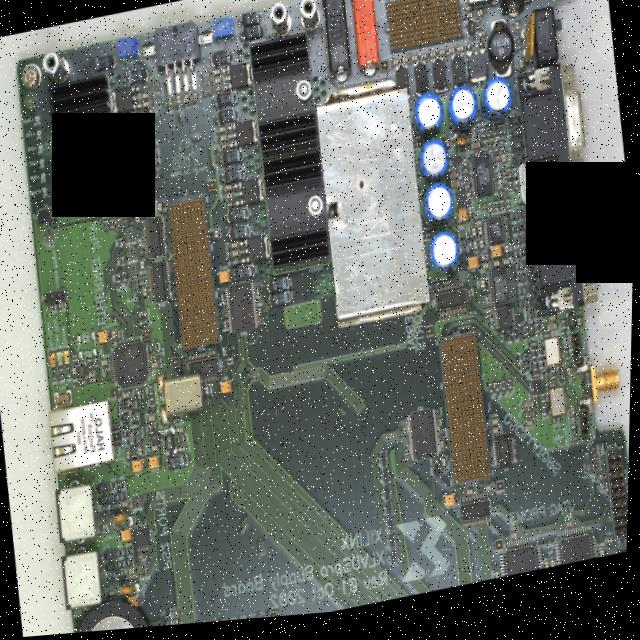-component text- -106C M062P-: (471, 267, 478, 274), (495, 255, 502, 262)
-component text- -106C M06ZP-: (101, 334, 108, 342), (136, 464, 143, 472), (449, 504, 456, 512), (224, 387, 231, 394), (152, 461, 159, 468), (222, 276, 229, 283)
-component text- -12CWQ06FN I R202G AU 22-: (469, 63, 487, 83)
-component text- -33 25N3-: (454, 74, 465, 85)
-component text- -47-10 P9 2-: (220, 96, 232, 108), (226, 154, 238, 166), (131, 72, 143, 84), (232, 212, 244, 224), (246, 15, 257, 27), (247, 29, 258, 41), (217, 55, 228, 67), (222, 113, 233, 125), (229, 172, 240, 184), (99, 58, 110, 70), (136, 113, 147, 125), (142, 170, 153, 182), (114, 196, 125, 208), (235, 229, 246, 241), (273, 283, 284, 295), (275, 297, 286, 309), (172, 459, 183, 471), (138, 131, 149, 142), (239, 270, 250, 281)
-component text- -E EG 2121 156 250 P OHPA26KS-: (549, 350, 559, 371)
-component text- -FP16AB LVT162244-: (421, 423, 434, 459)
-component text- -HALO FastJackTM HFJ11-S050E 0231-: (75, 411, 108, 458)
-component text- -LC32 13K E1K0-: (140, 534, 151, 547)
-component text- -LT 0044 LTC1628CG N25105-: (477, 169, 492, 194)
-component text- -M R47M-: (492, 45, 512, 66)
-component text- -P1GAB LVT162244-: (233, 298, 246, 331)
-component text- -Sipex 3223EIICY 0145-: (492, 229, 502, 246)
-component text- -Sipex SP3243EHCA 0234-: (495, 281, 511, 310)
-component text- -W 201-: (122, 43, 135, 51), (217, 24, 229, 30)
-component text- -intel LXT972ALC A4 L224KB82 SINGAPORE-: (119, 347, 146, 383)
-component text- 0X01: (84, 339, 91, 344)
-component text- 1: (542, 56, 551, 63)
-component text- 1001: (591, 475, 595, 480), (123, 483, 126, 488), (125, 495, 128, 499), (132, 562, 135, 566), (131, 551, 133, 555), (508, 210, 510, 214)
-component text- 1002: (142, 313, 146, 318), (121, 241, 124, 247), (122, 259, 125, 265), (545, 417, 548, 423), (143, 322, 147, 326)
-component text- 1003: (490, 213, 492, 217)
-component text- 101: (493, 135, 497, 140), (515, 234, 519, 239), (153, 348, 157, 352), (513, 222, 517, 226), (516, 247, 520, 251), (520, 284, 523, 288), (523, 310, 526, 314), (488, 137, 490, 141)
-component text- 1022: (544, 405, 546, 409)
-component text- 103: (145, 569, 148, 576), (531, 319, 534, 326), (129, 234, 132, 240), (131, 253, 134, 259)
-component text- 105: (537, 335, 540, 339), (527, 337, 529, 341)
-component text- 10R: (461, 153, 465, 157)
-component text- 1200: (155, 93, 159, 97)
-component text- 1500: (491, 393, 495, 399), (61, 371, 64, 378), (55, 372, 58, 379), (498, 391, 501, 398), (68, 370, 71, 376), (511, 389, 514, 395), (505, 390, 508, 396)
-component text- 1503: (502, 209, 505, 216)
-component text- 2: (539, 23, 548, 31)
-component text- 203C: (122, 48, 132, 56)
-component text- 2201: (119, 221, 121, 226), (53, 305, 56, 308), (51, 221, 53, 225), (577, 443, 579, 447), (568, 363, 570, 367)
-component text- 2202: (152, 402, 155, 407)
-component text- 22R: (123, 276, 128, 281), (117, 277, 121, 283), (95, 361, 99, 366), (499, 134, 503, 139), (517, 259, 521, 264), (134, 271, 137, 277), (135, 285, 138, 291), (138, 500, 141, 506), (519, 272, 523, 276), (122, 564, 126, 568), (114, 485, 117, 490), (122, 552, 125, 557), (111, 223, 114, 227), (116, 497, 119, 501), (522, 297, 525, 301), (557, 427, 560, 431)
-component text- 24: (506, 345, 509, 349), (517, 343, 520, 346)
-component text- 241C: (217, 29, 226, 36)
-component text- 24R0: (528, 372, 532, 376), (526, 366, 530, 369)
-component text- 2R20: (134, 452, 137, 458)
-component text- 3100: (536, 373, 539, 378), (534, 360, 536, 364)
-component text- 3300: (153, 426, 156, 431), (90, 363, 93, 367), (182, 440, 185, 444), (106, 224, 108, 228)
-component text- 332: (463, 255, 468, 259), (462, 240, 466, 244)
-component text- 4701: (604, 484, 607, 489), (605, 494, 608, 498)
-component text- 472: (603, 469, 606, 475)
-component text- 473: (510, 191, 513, 197), (509, 179, 512, 184)
-component text- 4R7: (469, 30, 474, 40), (81, 367, 86, 377), (561, 379, 566, 389), (154, 437, 161, 443), (571, 325, 575, 335)
-component text- 72258: (437, 473, 441, 483)
-component text- 7Z25B: (228, 349, 234, 359)
-component text- L4P: (505, 339, 509, 345)
-component text- R47M: (168, 438, 174, 451)
-component text- h: (331, 29, 343, 41), (360, 23, 371, 35)
-electrolytic capacitor- C100: (168, 456, 191, 474)
-electrolytic capacitor- C105: (149, 458, 163, 471)
-electrolytic capacitor- C115: (98, 331, 113, 346)
-electrolytic capacitor- C119: (122, 528, 137, 544)
-electrolytic capacitor- C129: (133, 461, 147, 474)
-electrolytic capacitor- C150: (445, 500, 459, 514)
-electrolytic capacitor- C155: (219, 273, 233, 288)
-electrolytic capacitor- C157: (221, 383, 235, 398)
-electrolytic capacitor- C178: (413, 68, 430, 104)
-electrolytic capacitor- C183: (432, 62, 448, 100)
-electrolytic capacitor- C188: (450, 60, 467, 97)
-electrolytic capacitor- C2: (442, 89, 482, 140)
-electrolytic capacitor- C28: (458, 213, 469, 232)
-electrolytic capacitor- C29: (420, 186, 458, 237)
-electrolytic capacitor- C30: (425, 234, 464, 282)
-electrolytic capacitor- C44: (208, 53, 233, 72)
-electrolytic capacitor- C47: (213, 93, 238, 112)
-electrolytic capacitor- C48: (131, 111, 154, 127)
-electrolytic capacitor- C51: (126, 69, 151, 88)
-electrolytic capacitor- C54: (216, 111, 239, 129)
-electrolytic capacitor- C57: (220, 151, 243, 169)
-electrolytic capacitor- C58: (137, 167, 162, 186)
-electrolytic capacitor- C61: (133, 128, 156, 145)
-electrolytic capacitor- C62: (93, 55, 119, 73)
-electrolytic capacitor- C67: (221, 170, 246, 187)
-electrolytic capacitor- C7: (409, 95, 447, 147)
-electrolytic capacitor- C70: (226, 210, 250, 227)
-electrolytic capacitor- C72: (227, 228, 252, 244)
-electrolytic capacitor- C75: (232, 267, 256, 285)
-electrolytic capacitor- C76: (237, 14, 262, 32)
-electrolytic capacitor- C77: (239, 28, 264, 45)
-electrolytic capacitor- C78: (265, 281, 291, 299)
-electrolytic capacitor- C79: (267, 293, 294, 312)
-electrolytic capacitor- C8: (415, 142, 453, 192)
-electrolytic capacitor- C83: (108, 193, 131, 211), (467, 263, 481, 277)
-electrolytic capacitor- unknown: (476, 81, 517, 134), (394, 71, 411, 107), (490, 252, 505, 266), (129, 597, 143, 611)
-emi filter- FIL1: (519, 217, 533, 227)
-emi filter- FIL10: (512, 149, 525, 159)
-emi filter- FIL11: (510, 136, 524, 147)
-emi filter- FIL12: (509, 123, 522, 134)
-emi filter- FIL13: (100, 496, 113, 507)
-emi filter- FIL14: (98, 484, 111, 494)
-emi filter- FIL16: (106, 550, 120, 563)
-emi filter- FIL17: (136, 430, 144, 448)
-emi filter- FIL18: (526, 417, 539, 428)
-emi filter- FIL2: (521, 230, 533, 240)
-emi filter- FIL3: (523, 242, 535, 252)
-emi filter- FIL4: (524, 254, 536, 264)
-emi filter- FIL5: (525, 268, 537, 278)
-emi filter- FIL6: (526, 280, 539, 289)
-emi filter- FIL7: (527, 293, 540, 302)
-emi filter- FIL8: (528, 304, 542, 315)
-emi filter- FIL9: (513, 161, 527, 172)
-emi filter- unknown: (107, 563, 120, 573)
-resistor network- RESNETW1: (527, 315, 538, 329)
-resistor network- RNETW18: (598, 464, 610, 479)
-resistor network- RNETW3: (126, 229, 136, 245)
-resistor network- RNETW4: (134, 496, 144, 511)
-resistor network- RNETW5: (128, 247, 139, 263)
-resistor network- RNETW6: (141, 565, 151, 579)
-resistor network- RNETW7: (130, 267, 140, 280)
-resistor network- RNETW8: (132, 281, 142, 295)
-test point- TP1: (43, 187, 48, 194)
-test point- TP10: (35, 115, 40, 122)
-test point- TP3: (41, 172, 46, 179)
-test point- TP4: (498, 180, 503, 186)
-test point- TP5: (499, 187, 504, 193)
-test point- TP7: (40, 158, 45, 165)
-test point- TP8: (38, 145, 43, 151)
-test point- TP9: (37, 130, 42, 136)
2005: (518, 295, 527, 303)
2016: (88, 359, 94, 371)
2024: (47, 220, 56, 227)
2025: (515, 258, 524, 266)
2033: (513, 245, 522, 253)
2036: (517, 283, 526, 292), (512, 233, 521, 240)
2041: (94, 357, 101, 370)
2052: (49, 302, 60, 312)
2061: (510, 220, 520, 228)
2066: (519, 308, 529, 316)
2080: (494, 148, 500, 161)
2081: (151, 346, 160, 354)
2090: (116, 216, 124, 230)
2100: (139, 312, 148, 321)
2111: (140, 321, 149, 329)
2117: (498, 130, 504, 143)
2123: (479, 133, 486, 147)
2128: (178, 437, 188, 447)
2137: (151, 423, 160, 433)
2145: (485, 133, 492, 146)
2150: (491, 131, 499, 145)
2156: (500, 147, 507, 160)
2157: (122, 493, 131, 501)
2161: (121, 481, 130, 490)
2170: (103, 220, 111, 233)
2177: (109, 218, 117, 232)
2182: (113, 495, 122, 503)
2183: (111, 483, 120, 491)
2185: (119, 237, 125, 251)
2186: (129, 560, 138, 569)
2187: (128, 549, 137, 557)
2188: (119, 562, 129, 570)
2190: (122, 273, 129, 284)
2192: (118, 550, 127, 559)
2193: (66, 366, 73, 379)
2194: (59, 367, 67, 381)
2195: (52, 369, 59, 383)
2198: (116, 273, 122, 286)
2199: (149, 386, 156, 399)
2204: (132, 448, 140, 461)
2205: (508, 385, 516, 399)
2207: (151, 398, 157, 411)
2208: (524, 333, 531, 346)
2209: (489, 389, 497, 403)
2211: (507, 175, 512, 187)
2215: (536, 330, 541, 343)
2220: (496, 387, 502, 401)
2225: (501, 386, 510, 401)
2234: (456, 150, 469, 161), (487, 149, 495, 163), (458, 238, 469, 247), (412, 134, 415, 142), (126, 402, 129, 408), (128, 421, 131, 427), (124, 422, 127, 428)
2240: (529, 13, 567, 75)
2249: (556, 443, 567, 451), (421, 144, 427, 150), (449, 93, 454, 99), (445, 233, 450, 239), (426, 191, 431, 196), (431, 236, 436, 241), (483, 88, 487, 92), (436, 143, 440, 147), (375, 0, 380, 3)
2262: (591, 422, 598, 450)
2264: (582, 337, 589, 364)
2265: (26, 131, 37, 138), (205, 23, 214, 29)
2275: (27, 145, 38, 152), (110, 41, 120, 48)
2284: (29, 160, 40, 166)
2293: (30, 173, 41, 181)
2364: (86, 221, 111, 329)
2367: (52, 248, 62, 290)
2399: (511, 508, 578, 533)
2432: (625, 479, 631, 522)
2506: (68, 542, 77, 554)
2507: (75, 608, 85, 621)
2508: (155, 491, 177, 573)
2532: (271, 576, 392, 615)
2533: (171, 167, 208, 181)
2539: (48, 322, 55, 347)
2576: (564, 434, 571, 457)
2607: (23, 117, 35, 124)
2613: (222, 553, 390, 607)
2644: (387, 3, 391, 8), (59, 208, 62, 214), (594, 540, 597, 545), (616, 454, 620, 457), (627, 554, 630, 557), (145, 344, 149, 346), (539, 551, 541, 555), (478, 343, 481, 345), (180, 346, 183, 348)
2645: (391, 59, 396, 64), (221, 338, 225, 344), (436, 347, 440, 352)
2646: (216, 294, 221, 302), (441, 389, 445, 397), (423, 52, 429, 57)
2648: (170, 255, 174, 262)
2685: (149, 377, 153, 383)
2690: (146, 381, 150, 388), (626, 545, 630, 552)
2692: (619, 547, 624, 554)
2694: (487, 429, 492, 437)
2700: (620, 554, 625, 560), (609, 454, 614, 459)
2702: (211, 246, 215, 254), (447, 437, 451, 445), (458, 46, 464, 51)
2708: (476, 494, 480, 502)
2725: (164, 207, 169, 215), (493, 477, 497, 485)
2728: (33, 213, 37, 220), (516, 23, 521, 28), (506, 552, 509, 557)
2730: (206, 199, 210, 207), (452, 485, 456, 493)
2733: (120, 387, 124, 392)
2734: (501, 557, 506, 563), (116, 383, 120, 388), (557, 547, 561, 551)
2736: (559, 540, 565, 547)
2750: (588, 535, 594, 541), (534, 546, 539, 552)
2754: (112, 347, 116, 353)
2755: (115, 341, 119, 348)
2785: (174, 304, 179, 310), (483, 382, 486, 388), (417, 0, 422, 2)
2791: (49, 357, 51, 360), (56, 355, 58, 358), (64, 354, 66, 357)
2839: (375, 26, 382, 40)
2840: (347, 32, 353, 46)
2846: (131, 575, 139, 581), (176, 470, 184, 475)
2847: (189, 445, 194, 455)
2848: (541, 341, 545, 350)
2849: (145, 415, 150, 426)
2850: (149, 443, 153, 454), (486, 317, 492, 322)
2851: (153, 469, 161, 475), (546, 390, 551, 399)
2856: (459, 173, 464, 179)
2857: (164, 350, 167, 358)
2858: (104, 354, 112, 360)
2859: (104, 370, 107, 378)
2861: (110, 323, 118, 329)
2862: (103, 326, 111, 332), (122, 331, 126, 339)
2863: (142, 391, 147, 400)
2864: (131, 391, 139, 402)
2865: (131, 499, 136, 509)
2866: (118, 536, 123, 546)
2867: (472, 144, 478, 150)
2869: (136, 402, 139, 410)
2870: (137, 415, 141, 423)
2871: (125, 438, 131, 443)
2872: (131, 425, 139, 431)
2873: (59, 386, 67, 391)
2874: (124, 459, 132, 469), (121, 408, 124, 417)
2875: (131, 412, 134, 421)
2877: (137, 473, 145, 478)
2878: (468, 157, 474, 163), (483, 219, 487, 223)
2879: (146, 447, 150, 457), (529, 328, 535, 334)
2881: (442, 283, 449, 288)
2883: (141, 282, 149, 288)
2884: (133, 209, 141, 215)
2885: (140, 271, 148, 277)
2886: (143, 559, 149, 565)
2895: (541, 324, 547, 332)
2896: (442, 414, 445, 422)
2901: (449, 512, 457, 518)
2902: (256, 297, 263, 303)
2903: (257, 306, 264, 311)
2904: (221, 304, 227, 309)
2905: (224, 331, 230, 336)
2906: (220, 269, 229, 275)
2908: (223, 379, 231, 384)
2910: (431, 465, 435, 473)
2911: (496, 170, 500, 174)
2912: (229, 364, 235, 369)
2915: (559, 319, 567, 325)
2916: (576, 320, 584, 325)
2918: (569, 384, 576, 394)
2919: (568, 419, 572, 429)
2920: (447, 468, 453, 479)
2922: (467, 162, 471, 170)
2923: (528, 435, 536, 440)
2924: (519, 405, 526, 415)
2925: (530, 401, 533, 410)
2929: (408, 72, 412, 82)
2930: (388, 65, 391, 75)
2931: (412, 90, 416, 100)
2935: (426, 68, 429, 78)
2936: (410, 71, 413, 82)
2937: (430, 87, 435, 97)
2940: (428, 67, 432, 78)
2941: (445, 65, 448, 75)
2942: (450, 83, 453, 93)
2946: (447, 64, 451, 75)
2947: (463, 59, 467, 71), (177, 424, 185, 430)
2948: (450, 146, 454, 156)
2949: (485, 31, 489, 42)
2952: (608, 541, 616, 546)
2955: (444, 97, 451, 107), (452, 196, 457, 200)
2956: (194, 107, 200, 112)
2957: (548, 558, 557, 566)
2959: (567, 524, 575, 530)
2964: (511, 535, 520, 541)
2967: (505, 162, 510, 170)
2972: (494, 489, 498, 500)
2976: (219, 231, 224, 241)
2977: (155, 205, 159, 215)
2978: (542, 383, 545, 389)
2982: (260, 615, 268, 621)
2983: (251, 617, 259, 622)
2987: (242, 618, 250, 624)
2988: (233, 620, 241, 624)
2989: (503, 185, 507, 189)
2993: (224, 621, 232, 625)
2994: (214, 623, 222, 626)
2998: (205, 625, 213, 626)
3004: (501, 432, 505, 442)
3005: (532, 346, 538, 351)
3006: (552, 338, 560, 344)
3036: (446, 174, 453, 181), (455, 219, 459, 228)
3047: (448, 222, 457, 234)
3058: (453, 267, 462, 279)
3079: (210, 97, 216, 103)
3089: (530, 383, 533, 389)
3100: (504, 188, 508, 192)
3127: (472, 204, 476, 212)
3153: (514, 67, 518, 73)
3154: (152, 109, 158, 117)
3157: (185, 108, 191, 113)
3168: (473, 212, 477, 220)
3182: (232, 56, 237, 65)
3185: (236, 96, 241, 104)
3186: (127, 117, 132, 126), (221, 78, 225, 87)
3188: (483, 20, 488, 26)
3189: (138, 94, 142, 102)
3190: (122, 77, 128, 86)
3193: (238, 113, 242, 122)
3194: (213, 130, 217, 138)
3195: (214, 138, 218, 147)
3196: (242, 152, 247, 162)
3197: (133, 174, 138, 183)
3198: (158, 158, 163, 166), (91, 378, 97, 383)
3200: (158, 149, 162, 158)
3201: (128, 135, 133, 143)
3202: (101, 54, 107, 59)
3204: (177, 110, 183, 115)
3205: (218, 147, 221, 153)
3207: (245, 171, 249, 180)
3208: (219, 188, 223, 196)
3209: (220, 197, 224, 205)
3210: (411, 104, 418, 113)
3211: (249, 211, 254, 219)
3212: (224, 206, 228, 212)
3213: (251, 229, 255, 237)
3214: (225, 246, 230, 254)
3215: (226, 254, 231, 262)
3216: (255, 269, 260, 277)
3217: (261, 15, 265, 25)
3218: (262, 29, 266, 37)
3219: (290, 282, 294, 291)
3220: (291, 295, 296, 303)
3221: (419, 181, 426, 191)
3222: (169, 112, 175, 117)
3223: (229, 264, 232, 270)
3225: (104, 200, 109, 208), (472, 275, 478, 280), (156, 142, 159, 148)
3226: (481, 277, 487, 282)
3227: (482, 256, 488, 262)
3229: (490, 268, 494, 276)
3235: (509, 252, 514, 261)
3239: (470, 249, 473, 257)
3240: (485, 250, 493, 257), (474, 258, 480, 263)
3241: (476, 227, 482, 233)
3242: (468, 233, 472, 242)
3269: (473, 54, 478, 59)
3271: (508, 348, 514, 354)
3272: (163, 612, 169, 618)
3289: (204, 63, 211, 72)
3293: (516, 347, 520, 351)
3353: (405, 322, 419, 362)
3357: (60, 473, 70, 490)
3413: (105, 569, 112, 579), (517, 214, 523, 220)
3414: (508, 149, 513, 161)
3415: (506, 137, 512, 149)
3416: (505, 124, 509, 136)
3417: (98, 500, 103, 511)
3418: (97, 477, 106, 486)
3419: (104, 545, 113, 553)
3420: (142, 429, 146, 441)
3421: (518, 416, 527, 427)
3422: (518, 227, 524, 232)
3423: (520, 239, 526, 244)
3424: (521, 251, 528, 256)
3425: (522, 264, 528, 269)
3426: (524, 276, 530, 282)
3427: (526, 289, 532, 294)
3428: (527, 301, 533, 307)
3429: (509, 161, 514, 169)
3434: (522, 21, 528, 28)
3435: (105, 535, 119, 542)
3436: (142, 585, 152, 603)
3437: (444, 133, 456, 144)
3449: (308, 44, 314, 63)
3450: (310, 269, 325, 278)
3451: (54, 162, 61, 180)
3455: (482, 203, 489, 209)
3456: (474, 217, 484, 228)
3457: (458, 516, 462, 527)
3458: (149, 212, 155, 218)
3459: (151, 531, 156, 543)
3460: (159, 304, 166, 310)
3461: (152, 370, 159, 383)
3464: (491, 325, 496, 338)
3465: (221, 362, 225, 372)
3466: (236, 61, 241, 66)
3467: (431, 473, 436, 484)
3468: (419, 412, 425, 418)
3469: (242, 334, 249, 340)
3470: (223, 350, 228, 359)
3471: (505, 475, 511, 481)
3472: (122, 115, 128, 120)
3473: (248, 177, 254, 182)
3474: (128, 172, 134, 177)
3475: (242, 119, 247, 124)
3476: (255, 235, 260, 240)
3477: (486, 304, 491, 312)
3478: (433, 307, 437, 314)
3486: (517, 57, 523, 63)
3492: (580, 356, 586, 365)
3494: (589, 435, 594, 446)
3495: (587, 382, 592, 391)
3496: (489, 409, 494, 419)
3497: (380, 30, 386, 41)
3510: (201, 46, 206, 53)
3512: (183, 193, 190, 199)
3514: (41, 296, 46, 302)
3515: (513, 92, 518, 98)
3516: (44, 202, 50, 209)
3558: (46, 243, 56, 250)
3561: (509, 33, 514, 39)
3562: (466, 44, 473, 51)
3565: (83, 381, 87, 385)
3567: (163, 442, 168, 448)
3568: (159, 426, 164, 432)
3569: (568, 339, 572, 343)
3577: (49, 347, 56, 352)
3578: (56, 346, 64, 351)
3579: (63, 344, 71, 350)
3585: (53, 318, 62, 347)
3632: (414, 321, 428, 359)
3693: (126, 63, 135, 69)
3694: (220, 44, 231, 51)
3756: (449, 167, 453, 173)
3757: (453, 202, 456, 208)
3765: (574, 430, 577, 433), (63, 303, 65, 307), (175, 615, 177, 619), (176, 624, 178, 628), (566, 350, 568, 353)
3778: (509, 199, 515, 205)
3781: (559, 335, 564, 346)
3782: (569, 345, 573, 356)
3783: (521, 371, 525, 382)
3784: (570, 358, 574, 369)
3785: (520, 360, 524, 371)
3786: (527, 379, 531, 389)
3787: (537, 342, 543, 354)
3788: (526, 348, 530, 358)
3789: (511, 208, 515, 216), (119, 399, 124, 405)
3790: (543, 373, 550, 383)
3791: (550, 373, 558, 378)
3792: (569, 430, 573, 440)
3793: (554, 432, 562, 437)
3794: (570, 440, 575, 451)
3795: (543, 425, 551, 430)
3800: (461, 246, 468, 253), (489, 220, 495, 225)
3801: (593, 486, 602, 495)
3802: (172, 608, 180, 614)
3803: (479, 23, 484, 36)
3809: (603, 498, 611, 504)
3811: (501, 218, 507, 223)
3815: (546, 399, 551, 411)
3816: (584, 473, 590, 484)
3819: (599, 460, 607, 466)
3822: (495, 219, 501, 224)
3823: (514, 207, 522, 212)
3824: (513, 203, 520, 208)
3832: (492, 420, 500, 426)
3844: (159, 81, 164, 89)
3878: (161, 90, 165, 98)
3889: (117, 259, 122, 268), (156, 107, 162, 112)
3921: (196, 78, 203, 86)
3932: (196, 84, 203, 94)
3943: (198, 92, 205, 100)
3954: (517, 266, 523, 271)
3965: (519, 290, 525, 296)
3976: (88, 354, 94, 359)
3985: (43, 223, 48, 229)
3986: (515, 253, 521, 259)
3993: (61, 308, 68, 313)
3997: (513, 240, 519, 246)
4001: (512, 228, 518, 233), (518, 278, 524, 283)
4006: (100, 350, 104, 359)
4018: (52, 309, 58, 315)
4027: (511, 216, 517, 221)
4032: (521, 303, 527, 308)
4047: (158, 345, 163, 353)
4056: (116, 213, 122, 218)
4066: (148, 310, 152, 319)
4077: (149, 319, 153, 328)
4083: (502, 132, 507, 140)
4089: (477, 130, 483, 135)
4094: (187, 437, 191, 445)
4103: (147, 426, 151, 434)
4111: (483, 129, 489, 134)
4116: (476, 124, 482, 129)
4122: (504, 150, 508, 156)
4123: (123, 488, 129, 494)
4128: (121, 477, 128, 482)
4137: (103, 215, 109, 221)
4145: (110, 214, 116, 219)
4151: (114, 490, 120, 495)
4152: (112, 478, 118, 484)
4153: (115, 240, 120, 248)
4154: (130, 556, 136, 561)
4155: (128, 544, 134, 549)
4156: (121, 557, 127, 563)
4160: (120, 545, 126, 551)
4161: (68, 378, 74, 383)
4162: (61, 379, 67, 385)
4163: (54, 380, 60, 386)
4166: (112, 276, 118, 284)
4167: (146, 388, 151, 397)
4172: (125, 442, 130, 450)
4173: (511, 396, 519, 404)
4175: (148, 401, 152, 409)
4176: (520, 328, 527, 335)
4177: (492, 400, 499, 409)
4179: (507, 171, 511, 175)
4183: (536, 326, 542, 331)
4188: (499, 400, 505, 410)
4193: (505, 398, 512, 408)
4219: (524, 315, 530, 331)
4220: (126, 242, 138, 248)
4221: (134, 509, 146, 515)
4222: (142, 578, 153, 584)
4223: (117, 288, 128, 294)
4224: (128, 299, 140, 304)
4225: (585, 483, 599, 490)
4266: (543, 10, 552, 17)
4280: (62, 327, 69, 345)
4286: (125, 568, 131, 575)
4287: (115, 573, 121, 580)
4288: (588, 451, 594, 457)
4289: (379, 468, 386, 476)
4290: (381, 485, 388, 492)
4291: (383, 501, 390, 509)
4292: (384, 517, 392, 525)
4293: (386, 534, 393, 541)
4294: (388, 550, 395, 557)
4295: (390, 566, 396, 574)
4297: (127, 211, 131, 216)
4303: (42, 193, 49, 198)
4304: (34, 120, 43, 127)
4316: (41, 178, 47, 184)
4317: (495, 174, 502, 182)
4318: (498, 192, 504, 198)
4320: (39, 164, 46, 169)
4321: (38, 150, 44, 155)
4322: (36, 136, 43, 141)
4330: (86, 466, 94, 472)
4401: (29, 188, 43, 196)
4415: (341, 533, 387, 558)
4418: (83, 333, 91, 338)
4427: (171, 149, 204, 174)
4440: (465, 48, 489, 91)
4444: (451, 163, 464, 178)
4445: (455, 197, 467, 213)
4454: (120, 571, 131, 587)
4455: (108, 574, 119, 589)
4456: (586, 456, 597, 469)
4457: (379, 457, 391, 472)
4458: (381, 473, 393, 488)
4459: (383, 490, 395, 504)
4460: (384, 506, 397, 521)
4461: (386, 522, 398, 537)
4462: (388, 538, 401, 553)
4463: (390, 555, 402, 570)
4465: (123, 214, 135, 229)
4467: (101, 507, 111, 522), (113, 504, 123, 519)
capacitor: (205, 386, 212, 400), (73, 365, 80, 378), (480, 285, 487, 298), (152, 362, 161, 372), (465, 18, 474, 27), (103, 523, 112, 532), (110, 591, 120, 599), (503, 266, 512, 274), (142, 85, 149, 93), (442, 446, 447, 457), (406, 454, 412, 463), (468, 296, 473, 306), (73, 353, 80, 360), (464, 184, 471, 191), (465, 191, 472, 198), (404, 433, 409, 442), (500, 197, 504, 206), (416, 148, 422, 154), (415, 142, 422, 147), (426, 240, 432, 245), (409, 108, 412, 117), (419, 199, 422, 207), (426, 234, 430, 238)
capacitor C101: (130, 568, 139, 577)
capacitor C102: (180, 446, 189, 456)
capacitor C103: (177, 428, 187, 437), (545, 342, 552, 349)
capacitor C104: (149, 415, 159, 424)
capacitor C105: (152, 445, 162, 455), (487, 320, 494, 327)
capacitor C106: (550, 391, 558, 398)
capacitor C110: (462, 176, 469, 183)
capacitor C111: (151, 356, 159, 363)
capacitor C112: (101, 359, 111, 369)
capacitor C113: (106, 367, 113, 374)
capacitor C115: (112, 329, 119, 343)
capacitor C116: (118, 332, 123, 340)
capacitor C117: (138, 392, 143, 402)
capacitor C118: (123, 392, 133, 401)
capacitor C119: (123, 501, 132, 510)
capacitor C120: (469, 148, 482, 158)
capacitor C122: (132, 403, 136, 412)
capacitor C123: (133, 416, 138, 424)
capacitor C124: (124, 430, 129, 439)
capacitor C125: (130, 431, 138, 448)
capacitor C126: (54, 388, 76, 410)
capacitor C127: (127, 449, 134, 462), (124, 410, 130, 415)
capacitor C128: (125, 417, 129, 420)
capacitor C130: (474, 157, 483, 167)
capacitor C131: (139, 447, 145, 461), (530, 333, 536, 341)
capacitor C133: (444, 286, 451, 294)
capacitor C134: (137, 239, 144, 251)
capacitor C135: (143, 287, 150, 300)
capacitor C136: (135, 214, 142, 227)
capacitor C137: (140, 260, 147, 273)
capacitor C138: (140, 555, 147, 562)
capacitor C146: (541, 331, 547, 340)
capacitor C147: (440, 424, 445, 435)
capacitor C152: (257, 290, 261, 298)
capacitor C153: (259, 311, 264, 320)
capacitor C154: (221, 297, 227, 305)
capacitor C155: (224, 323, 229, 332)
capacitor C16: (435, 465, 442, 473)
capacitor C160: (495, 162, 501, 170)
capacitor C161: (229, 359, 235, 365)
capacitor C164: (549, 323, 558, 331)
capacitor C165: (576, 325, 584, 338)
capacitor C167: (567, 374, 574, 387)
capacitor C168: (570, 413, 578, 427)
capacitor C169: (443, 462, 448, 475)
capacitor C17: (492, 426, 501, 434)
capacitor C170: (462, 162, 469, 176)
capacitor C171: (527, 427, 536, 437)
capacitor C172: (524, 408, 537, 419)
capacitor C173: (533, 401, 540, 408)
capacitor C175: (384, 0, 393, 3)
capacitor C176: (394, 0, 403, 1)
capacitor C1767: (401, 62, 410, 70)
capacitor C177: (392, 64, 401, 73)
capacitor C182: (419, 58, 428, 68)
capacitor C183: (410, 60, 419, 70)
capacitor C187: (428, 57, 438, 66)
capacitor C188: (437, 55, 447, 64)
capacitor C192: (447, 53, 456, 62)
capacitor C193: (456, 52, 465, 60)
capacitor C194: (445, 143, 451, 157)
capacitor C195: (477, 38, 486, 46)
capacitor C198: (608, 545, 617, 555)
capacitor C20: (450, 187, 463, 196)
capacitor C200: (192, 93, 199, 105)
capacitor C203: (567, 528, 577, 537)
capacitor C208: (512, 539, 521, 548)
capacitor C210: (500, 159, 508, 173)
capacitor C215: (486, 491, 495, 500)
capacitor C216: (468, 495, 477, 503)
capacitor C219: (214, 231, 221, 244)
capacitor C22: (158, 203, 165, 216)
capacitor C220: (545, 381, 550, 391)
capacitor C224: (261, 619, 270, 623)
capacitor C230: (502, 177, 507, 186)
capacitor C244: (493, 434, 502, 443)
capacitor C245: (532, 351, 538, 356)
capacitor C246: (546, 331, 560, 341)
capacitor C280: (449, 178, 462, 188)
capacitor C30: (513, 28, 520, 41)
capacitor C321: (215, 90, 221, 95)
capacitor C330: (535, 381, 542, 387)
capacitor C340: (504, 192, 509, 200)
capacitor C370: (465, 197, 473, 210)
capacitor C40: (518, 66, 525, 78)
capacitor C400: (142, 103, 152, 110)
capacitor C418: (184, 94, 191, 108)
capacitor C420: (468, 211, 474, 224)
capacitor C46: (212, 71, 222, 80)
capacitor C49: (213, 79, 222, 89)
capacitor C50: (475, 16, 484, 25)
capacitor C51: (142, 94, 151, 102)
capacitor C56: (218, 128, 228, 137)
capacitor C57: (220, 137, 229, 145)
capacitor C6: (149, 160, 158, 168), (89, 371, 98, 379)
capacitor C61: (148, 151, 157, 159)
capacitor C65: (176, 96, 183, 109)
capacitor C66: (222, 147, 228, 153)
capacitor C69: (225, 187, 234, 195)
capacitor C7: (226, 195, 235, 204)
capacitor C72: (227, 204, 234, 212)
capacitor C74: (231, 244, 240, 254)
capacitor C75: (231, 253, 241, 262)
capacitor C81: (168, 98, 174, 110)
capacitor C82: (234, 263, 240, 269)
capacitor C84: (149, 142, 156, 150)
capacitor C86: (481, 260, 490, 270)
capacitor C88: (493, 267, 502, 277)
capacitor C93: (504, 250, 512, 264)
capacitor C97: (473, 246, 480, 259)
capacitor C98: (479, 245, 485, 258)
capacitor C99: (478, 232, 484, 245)
capacitor CA7: (471, 233, 478, 246)
clock: (154, 369, 209, 429), (543, 345, 565, 375), (549, 395, 570, 426)
connector: (528, 192, 606, 326), (438, 333, 497, 499), (492, 0, 535, 27)
connector -ps2 -2-: (54, 474, 105, 550)
connector 1: (61, 542, 111, 617)
connector BUS2: (348, 0, 383, 85)
connector C152: (319, 0, 355, 90)
connector J13: (574, 361, 583, 373)
connector J15: (582, 438, 591, 450)
connector J16: (573, 358, 625, 426)
connector J18: (382, 0, 465, 61)
connector J199: (606, 455, 631, 549)
connector J20: (457, 0, 499, 20)
connector J30: (138, 18, 219, 102)
connector J4: (165, 194, 224, 360)
connector J6: (45, 289, 68, 304)
connector J7: (514, 67, 593, 201)
connector J8: (35, 206, 59, 225)
connector NA: (42, 232, 59, 244)
connector TSTJ1: (48, 393, 127, 478)
diode D12: (501, 337, 512, 350)
diode D2: (160, 616, 172, 629)
diode D9: (511, 334, 524, 348)
fuse: (519, 21, 541, 75)
fuse FUSE3: (111, 512, 140, 532)
fuse FUSE4: (119, 582, 146, 600)
fuse unknown: (450, 134, 481, 154)
heatsink HSINK1: (247, 35, 322, 163)
heatsink HSINK2: (259, 152, 335, 281)
heatsink HSINK3: (47, 73, 124, 203)
ic IC1: (469, 162, 499, 207)
ic IC10: (484, 222, 509, 253)
ic IC11 -FTDI 09753-1 FT232HQ 1544-C-: (460, 500, 496, 536)
ic IC12: (142, 215, 169, 263)
ic IC13 -426 LGZ-: (135, 523, 154, 555)
ic IC14: (147, 260, 174, 307)
ic IC15: (109, 335, 154, 395)
ic IC18: (494, 315, 518, 338)
ic IC19 PGV: (187, 352, 223, 389)
ic IC2 -CU384C 08KG4 3SZ1-: (222, 65, 253, 94)
ic IC20: (435, 471, 444, 485)
ic IC21: (407, 414, 442, 469)
ic IC22: (225, 284, 260, 338)
ic IC23: (227, 347, 236, 361)
ic IC24: (494, 439, 519, 478)
ic IC3 -CU384C 08KG4 ESZ1-: (109, 88, 143, 117)
ic IC4: (234, 181, 266, 210)
ic IC5: (116, 144, 149, 174)
ic IC6 -XILINX SPARTAN-6 XC6SLX25 CSG3248IV1617 D5218876A 2C TAIWAN-: (227, 122, 260, 153)
ic IC7: (240, 239, 272, 268)
ic IC8 -4GCY 61K77 D9PSL-: (487, 273, 517, 317)
ic IC9: (435, 288, 470, 325)
ic unknown: (532, 386, 545, 402)
inductor: (557, 374, 568, 394)
inductor L10: (481, 24, 520, 88)
inductor L2: (465, 26, 477, 46)
inductor L4: (79, 362, 90, 382)
inductor L7: (164, 428, 180, 458)
inductor L8: (151, 432, 164, 445)
inductor L9: (567, 321, 577, 340)
jumper J12: (571, 339, 584, 363)
jumper J14: (579, 417, 593, 441)
led LED3: (50, 351, 59, 369)
led LED4: (58, 350, 66, 367)
led LED5: (65, 348, 73, 366)
pads C13: (484, 209, 489, 220)
pads R113: (563, 344, 571, 359)
pads R122: (572, 425, 579, 439)
pads R130: (173, 621, 182, 628)
pads R131: (171, 613, 181, 622)
pads R31: (60, 301, 69, 310)
pads unknown: (76, 331, 100, 361), (175, 418, 182, 426), (483, 153, 488, 164)
potentiometer POT2: (117, 37, 142, 67)
potentiometer R165: (212, 19, 236, 48)
resistor J1: (515, 46, 523, 59)
resistor R110: (508, 188, 514, 200)
resistor R113: (561, 327, 569, 340)
resistor R115: (524, 370, 533, 379)
resistor R116: (565, 358, 572, 372)
resistor R117: (523, 362, 533, 371)
resistor R118: (534, 369, 540, 381)
resistor R119: (538, 355, 545, 368)
resistor R12: (532, 356, 538, 369)
resistor R120: (506, 204, 513, 219), (122, 403, 125, 409)
resistor R121: (540, 368, 546, 379)
resistor R122: (552, 376, 559, 390)
resistor R124: (553, 424, 564, 434)
resistor R125: (573, 438, 582, 452)
resistor R126: (542, 413, 550, 426)
resistor R130: (458, 252, 472, 262), (488, 208, 495, 221)
resistor R131: (601, 482, 610, 490)
resistor R133: (476, 26, 481, 38)
resistor R139: (602, 491, 611, 500)
resistor R140: (500, 206, 507, 219)
resistor R144: (589, 472, 598, 482)
resistor R144 274: (542, 400, 548, 414)
resistor R148: (598, 453, 607, 462)
resistor R150: (494, 207, 500, 221)
resistor R151: (513, 173, 519, 187)
resistor R152: (514, 187, 520, 200)
resistor R170: (151, 83, 160, 92)
resistor R200: (152, 92, 161, 100)
resistor R210: (153, 100, 163, 109), (121, 258, 126, 268)
resistor R240: (202, 73, 211, 82)
resistor R250: (203, 82, 212, 90)
resistor R260: (204, 90, 213, 99)
resistor R270: (516, 271, 525, 279)
